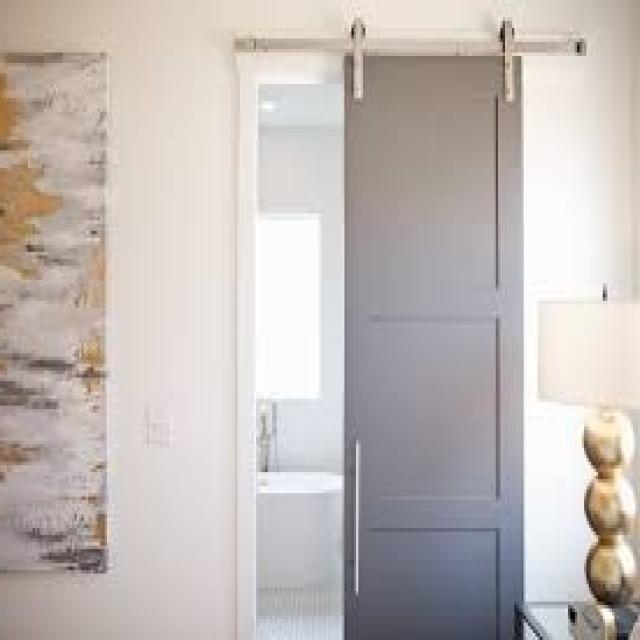door: (343, 52, 525, 640)
